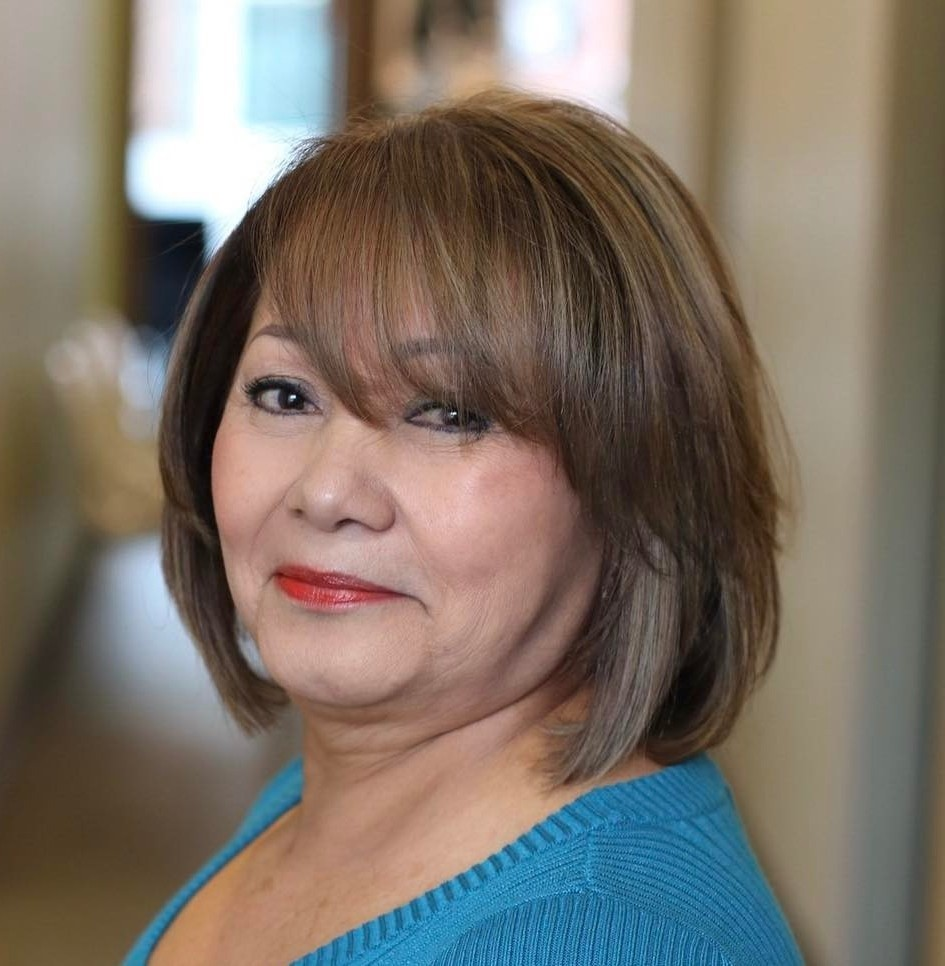face_no_mask: (204, 136, 665, 726)
